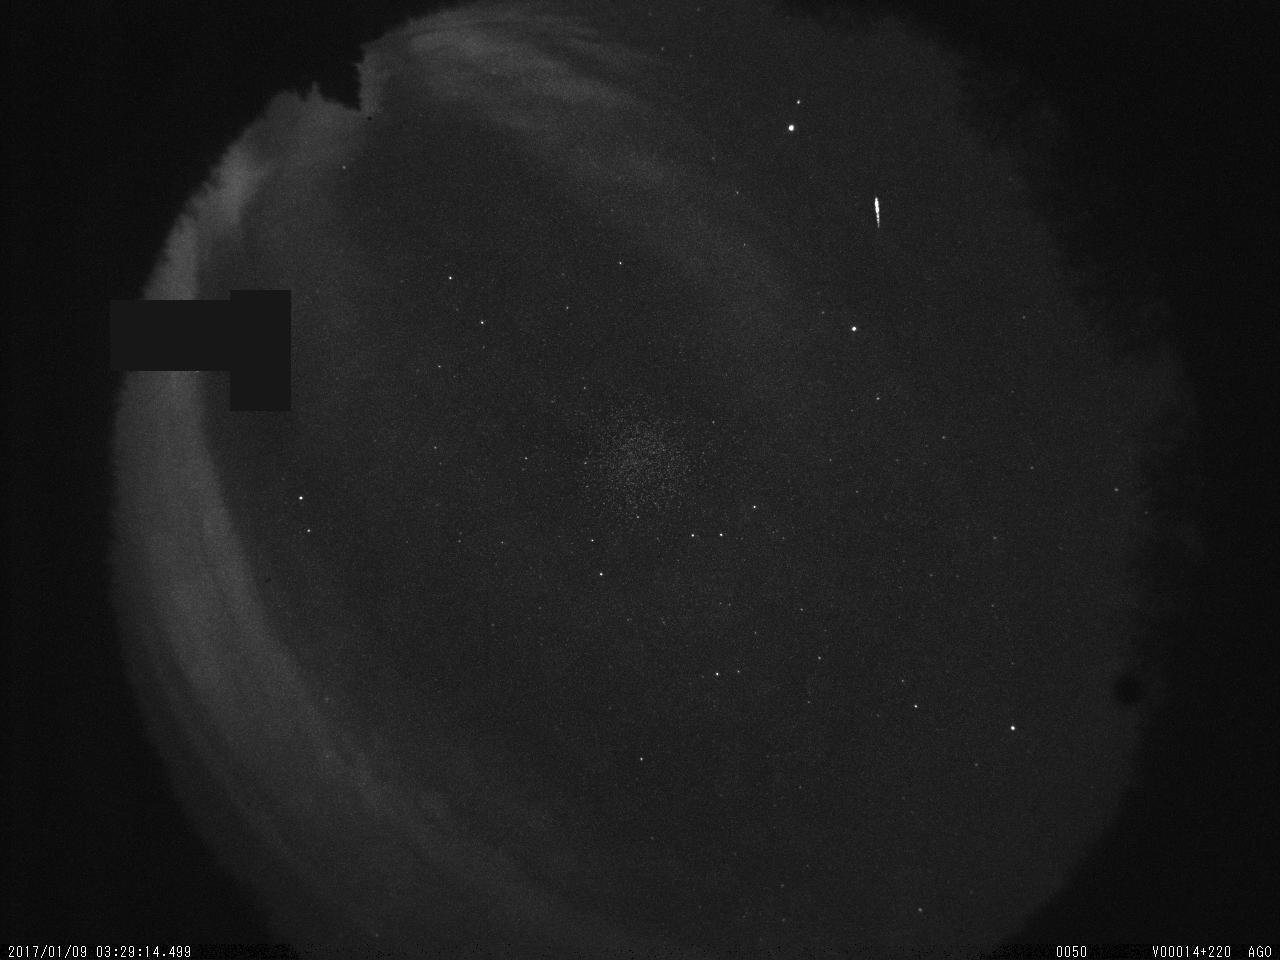meteor: (869, 193, 891, 242)
